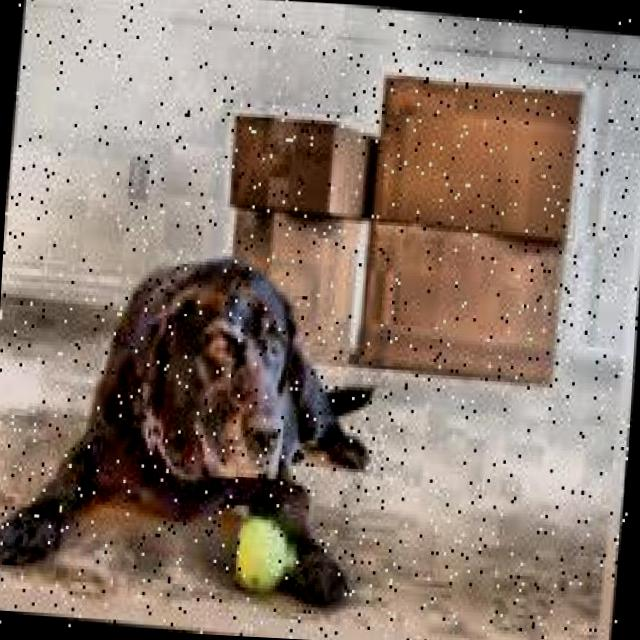tennis-ball: (237, 508, 302, 606)
